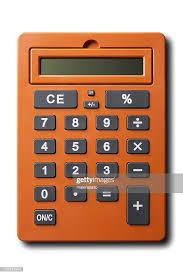Calculator: (6, 24, 178, 251)
